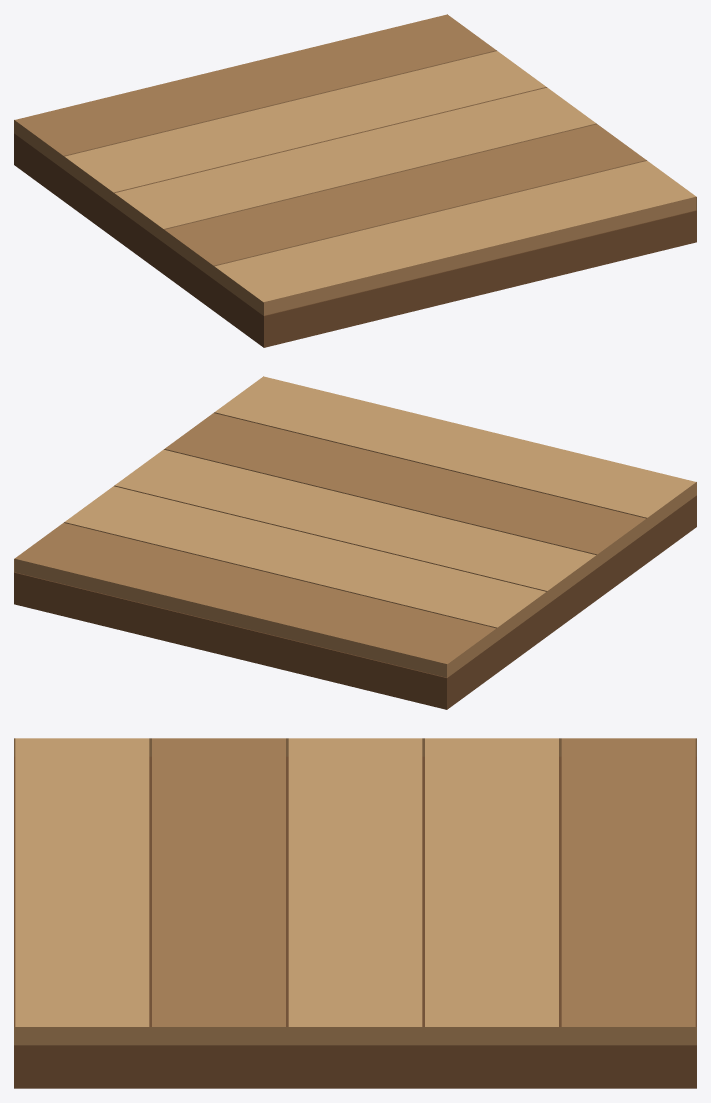
File: sakura_floor_wood.glb
The picture shows the model from 3 angles, top to bottom: view 1: azimuth 30°, elevation 25°; view 2: azimuth 150°, elevation 25°; view 3: azimuth 270°, elevation 25°; orthographic projection. The views are drawn at different scales.
Visible parts, largest first — view 1: sakura_floor_wood; view 2: sakura_floor_wood; view 3: sakura_floor_wood.
Boxes of the visible parts, x1,y1,x2,y2 form: sakura_floor_wood: (14, 14, 696, 347); sakura_floor_wood: (14, 376, 696, 709); sakura_floor_wood: (14, 738, 696, 1088).
Size of the model in its own units: 1 by 0.1 by 1.
Materials: 1 (1 with a texture image).
